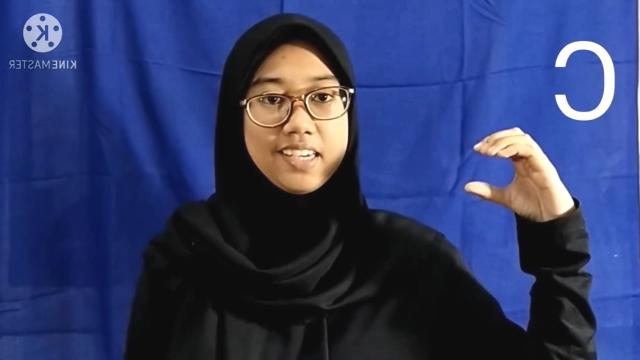C: (463, 124, 565, 222)
